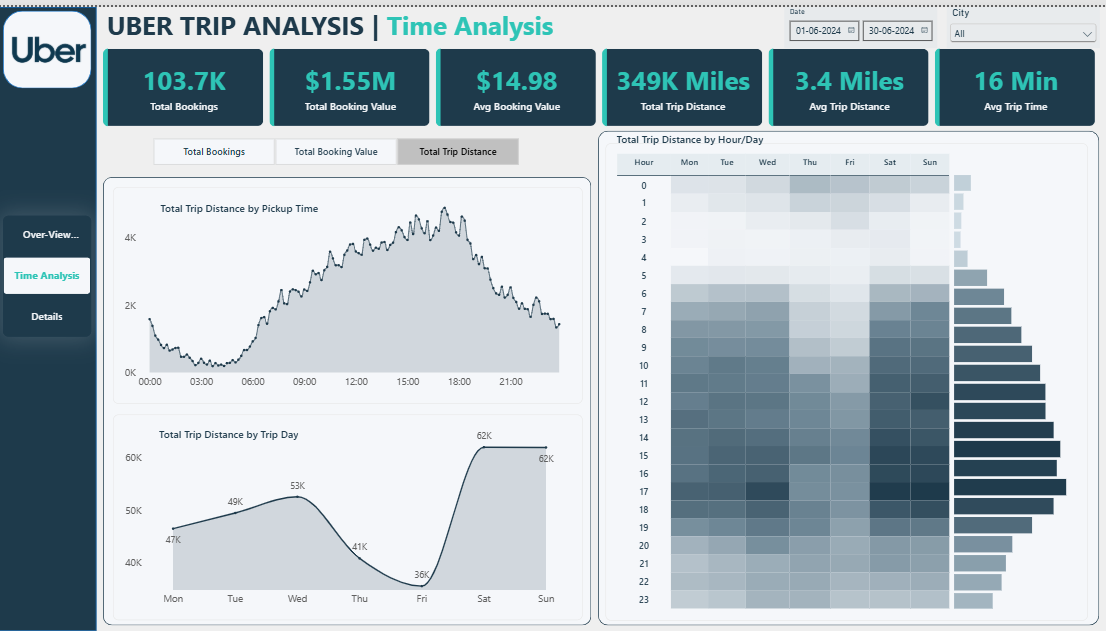

This screenshot's page, from the dashboard's own definition file:
{"tool":"powerbi","page":{"name":"Time Analysis","canvas":[1600,900],"ordinal":1},"visuals":[{"type":"shape","box":[152.4,245.7,704.4,646.9],"z":0},{"type":"shape","box":[0,0,142,900.3],"z":1000},{"type":"textbox","box":[157,0,659.3,59.1],"z":2000},{"type":"cardVisual","fields":{"Data":["Measure.Total Bookings","Measure.Total Booking Amount","Measure.Avg Booking Amount","Measure.Total Trip Distance","Measure.Avg Trip Distance","Measure.Avg Trip Time"]},"box":[152.4,59.1,1436.8,113.5],"z":3000},{"type":"slicer","fields":{"Values":["Dynamic Measure.Dynamic Measure"]},"box":[203.7,188.1,566,42],"z":4000},{"type":"slicer","fields":{"Values":["Calendar.Date"]},"box":[1133.6,0,220.8,59.1],"z":5000},{"type":"slicer","fields":{"Values":["dim_location.City"]},"box":[1368.4,0,220.8,59.1],"z":6000},{"type":"areaChart","fields":{"Category":["fact_ubertrip.Pickup Time (bins)"],"Y":["Measure.Total Trip Distance."]},"box":[166.4,260.6,678,312.5],"z":7000},{"type":"cardVisual","fields":{"Data":["Measure.Title For Pickup Time"]},"box":[218.7,273.4,293.9,31.1],"z":8000},{"type":"areaChart","fields":{"Category":["Calendar.Day Name"],"Y":["Measure.Total Trip Distance."]},"box":[166.4,588.7,678,297],"z":9000},{"type":"cardVisual","fields":{"Data":["Measure.Title For Pickup Day"]},"box":[216.9,600.5,293.9,31.1],"z":10000},{"type":"shape","box":[866.1,178.8,723.1,713.7],"z":11000},{"type":"pivotTable","fields":{"Columns":["Calendar.Day Name"],"Rows":["fact_ubertrip.Pickup Hour"],"Values":["Measure.Total Trip Distance."]},"box":[877,196.5,696.1,688.9],"z":12000},{"type":"barChart","fields":{"Category":["fact_ubertrip.Pickup Hour"],"Y":["Measure.Total Trip Distance."]},"box":[1363.9,219.9,209.2,664],"z":13000},{"type":"cardVisual","fields":{"Data":["Measure.Title For Hour/Day"]},"box":[877,175.7,293.9,31.1],"z":14000},{"type":"shape","box":[7.8,4.7,127.5,112],"z":15000},{"type":"image","box":[1.6,0,141.5,116.6],"z":16000},{"type":"pageNavigator","box":[7.8,301.7,127.5,174.2],"z":17000}]}

Visuals, with their boxes on the page's 1600x900 design canvas (x1, y1, x2, y2). These are canvas units, not pixel positions in the 1106x631 screenshot, which may show the page scaled, cropped or inside an application window:
shape: region(152, 246, 857, 893)
shape: region(0, 0, 142, 900)
textbox: region(157, 0, 816, 59)
cardVisual - Measure.Total Bookings x Measure.Total Booking Amount: region(152, 59, 1589, 173)
slicer - Dynamic Measure.Dynamic Measure: region(204, 188, 770, 230)
slicer - Calendar.Date: region(1134, 0, 1354, 59)
slicer - dim_location.City: region(1368, 0, 1589, 59)
areaChart - fact_ubertrip.Pickup Time (bins) x Measure.Total Trip Distance.: region(166, 261, 844, 573)
cardVisual - Measure.Title For Pickup Time: region(219, 273, 513, 304)
areaChart - Calendar.Day Name x Measure.Total Trip Distance.: region(166, 589, 844, 886)
cardVisual - Measure.Title For Pickup Day: region(217, 600, 511, 632)
shape: region(866, 179, 1589, 892)
pivotTable - Calendar.Day Name x fact_ubertrip.Pickup Hour: region(877, 196, 1573, 885)
barChart - fact_ubertrip.Pickup Hour x Measure.Total Trip Distance.: region(1364, 220, 1573, 884)
cardVisual - Measure.Title For Hour/Day: region(877, 176, 1171, 207)
shape: region(8, 5, 135, 117)
image: region(2, 0, 143, 117)
pageNavigator: region(8, 302, 135, 476)
